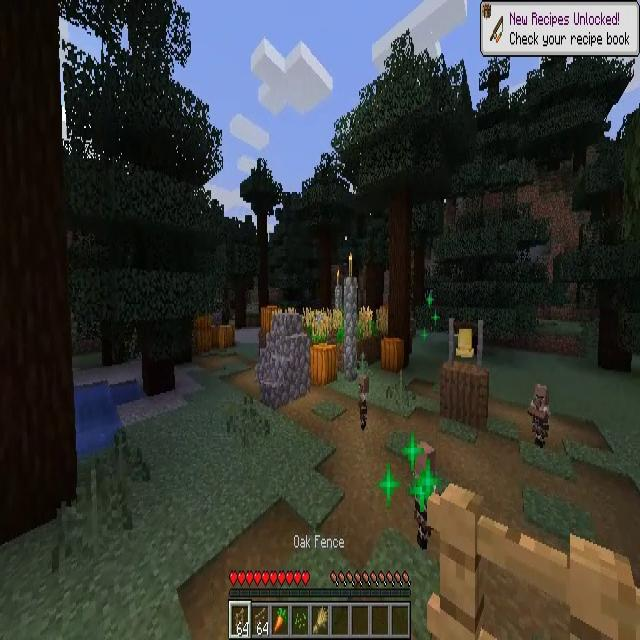people: (413, 443, 440, 546), (528, 382, 550, 448), (356, 376, 369, 431)
